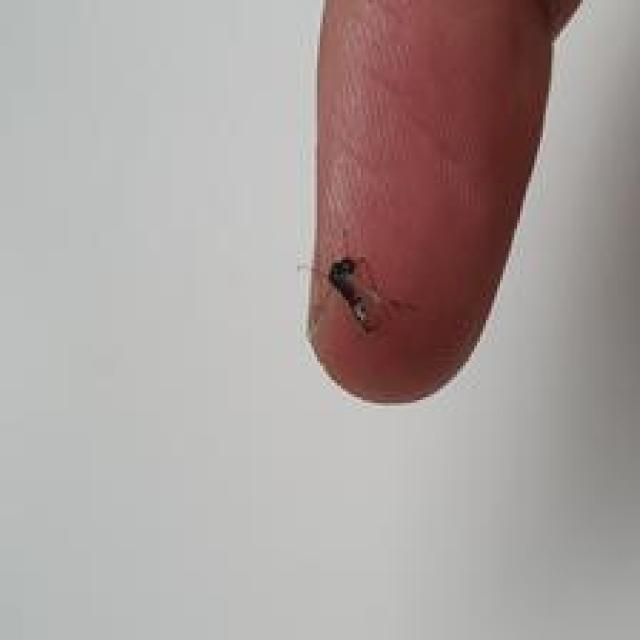Aedes albopictus: (326, 256, 417, 336)
